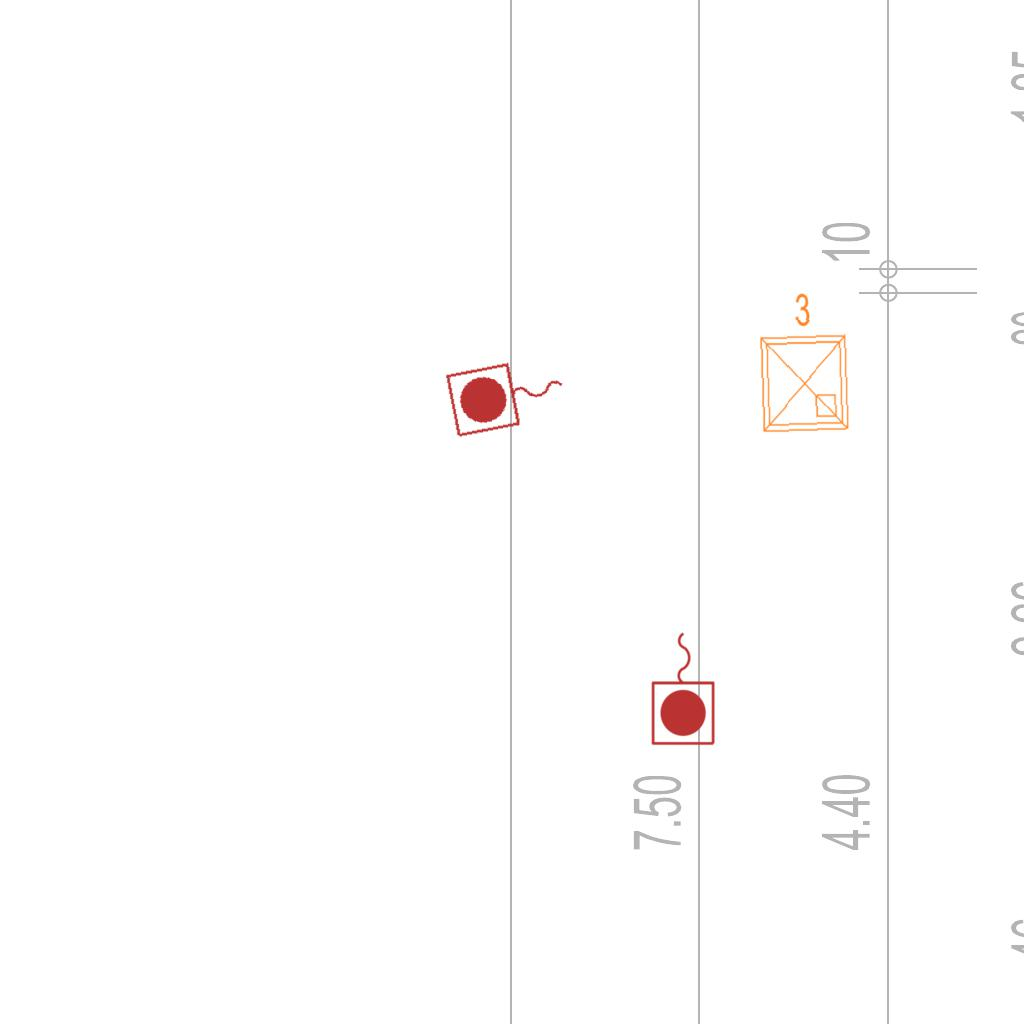Einbaudownlights_LED_Konferenzraeume: (747, 286, 857, 440)
Zugtaster: (441, 349, 575, 443), (648, 627, 720, 749)
